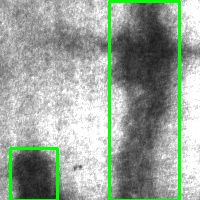patches: (109, 1, 179, 200), (10, 148, 57, 200)
